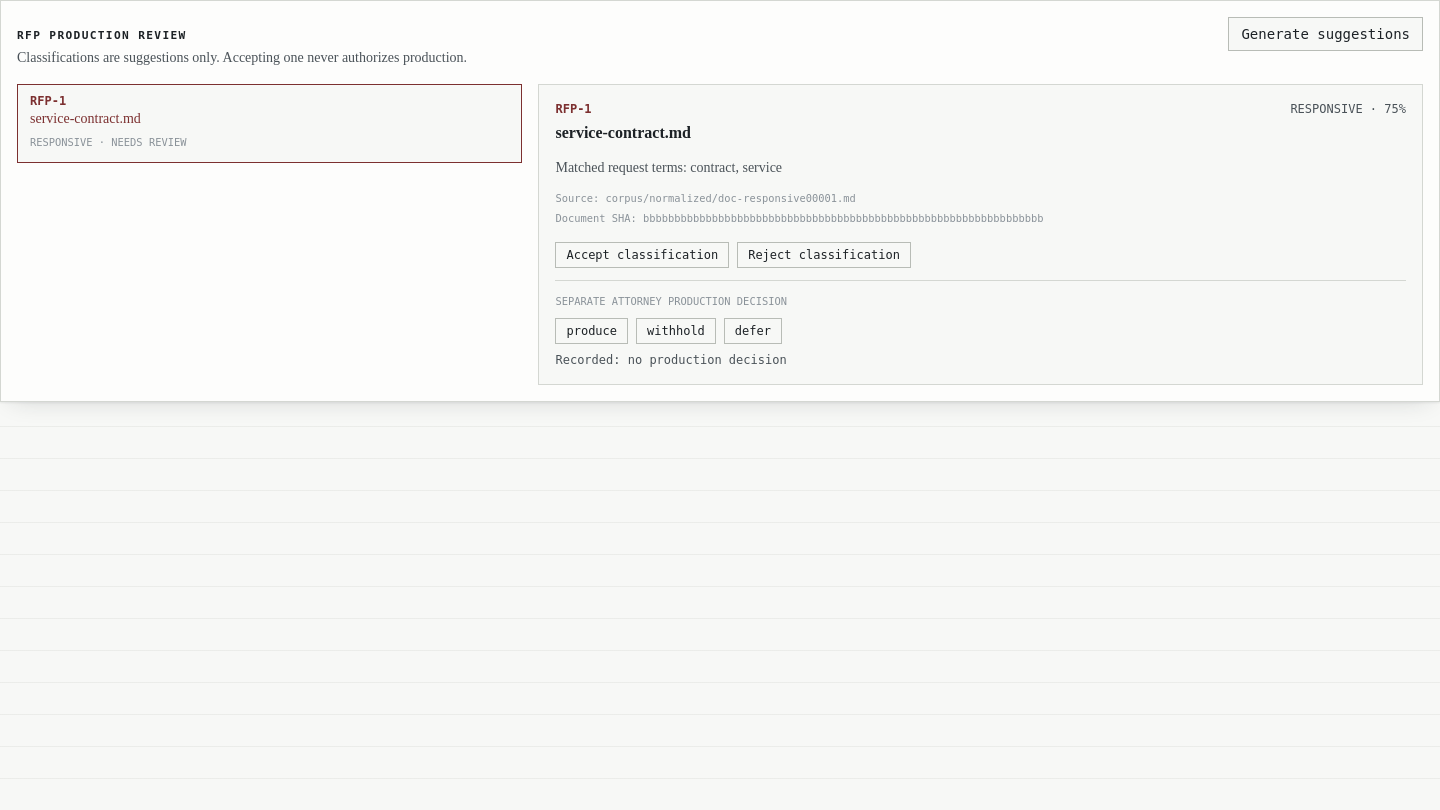
it: RFP production review separates classification from disclosure authority › records acceptance without a production disposition, then records production separately
Expected: the heading "service-contract.md" is shown, [556, 121, 691, 146]
Expected: the text "Accepting one never authorizes production" is shown, [17, 50, 467, 65]
Click the button "Accept classification" at [642, 255], box [556, 242, 729, 268]
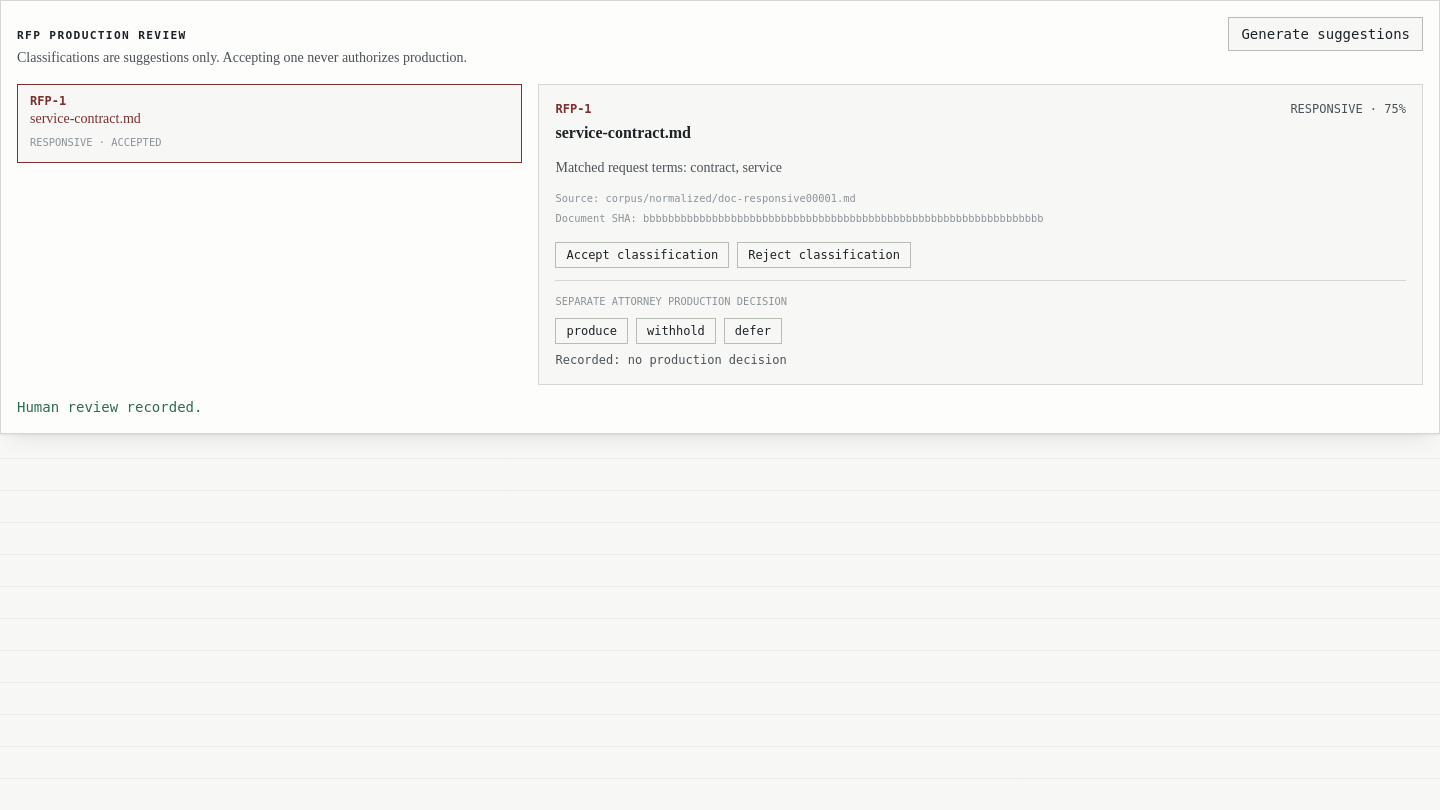
Expected: the text "Recorded: no production decision" is shown, [556, 352, 787, 366]
Now the text "Human review recorded." is shown, box [17, 398, 202, 414]
Click the button "produce" at [592, 330], box [556, 318, 628, 344]
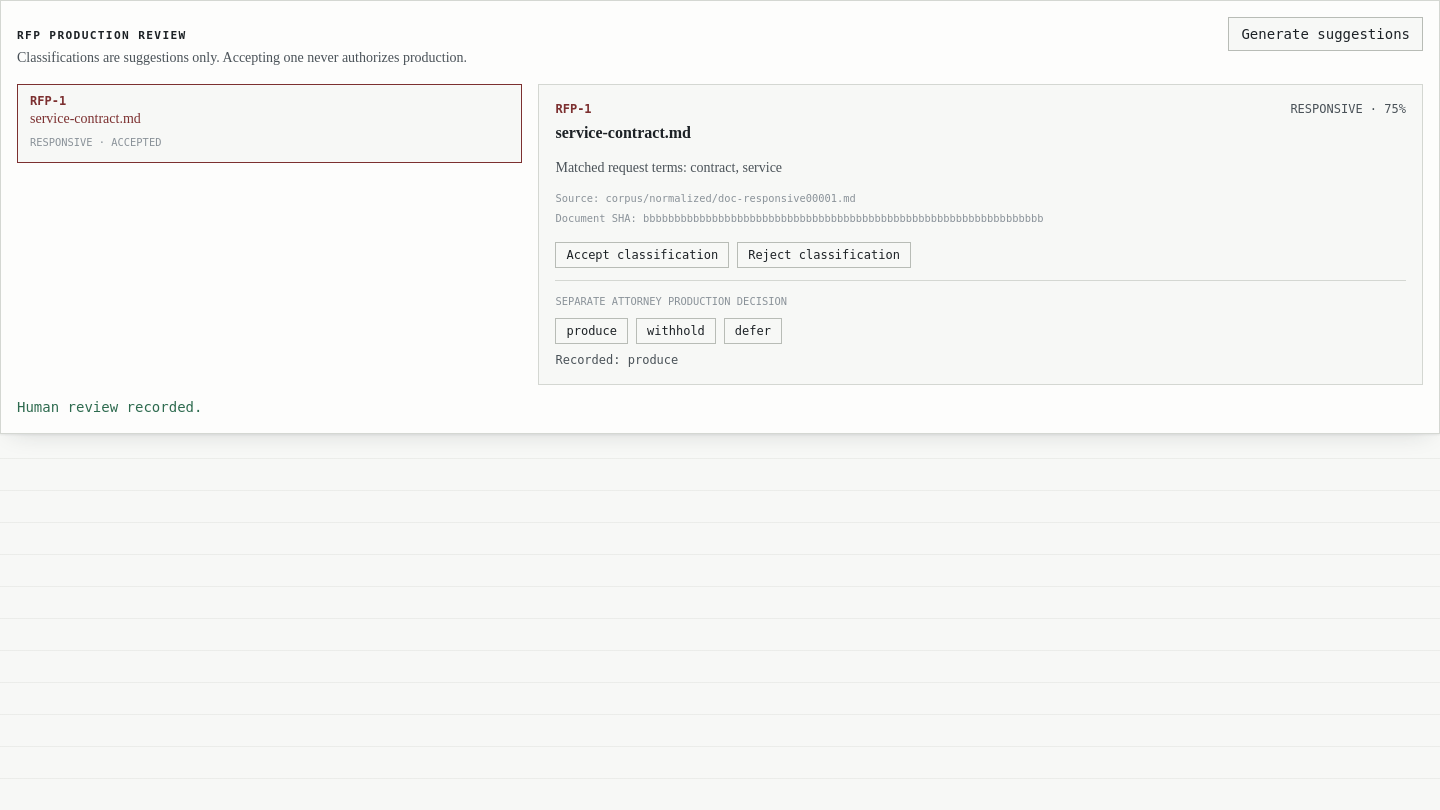
Now the text "Recorded: produce" is shown, box [556, 352, 678, 366]
